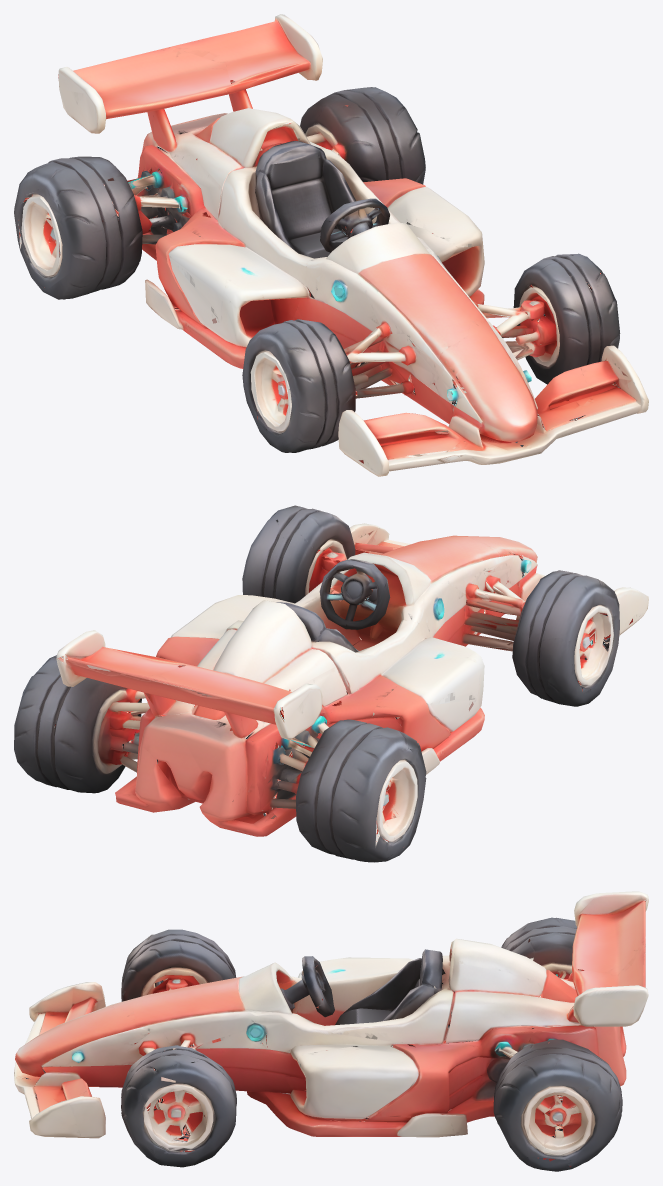
File: comet-mobile.glb
The picture shows the model from 3 angles, top to bottom: view 1: azimuth 30°, elevation 25°; view 2: azimuth 150°, elevation 25°; view 3: azimuth 270°, elevation 25°; orthographic projection. The views are drawn at different scales.
Visible parts, largest first — view 1: model; view 2: model; view 3: model.
Boxes of the visible parts, x1,y1,x2,y2 form: model: (14,14,648,476); model: (14,505,648,862); model: (14,891,648,1171).
Bounding box in the file's own units: 1.11 × 0.534 × 1.9.
Materials: 1 (1 with a texture image).
